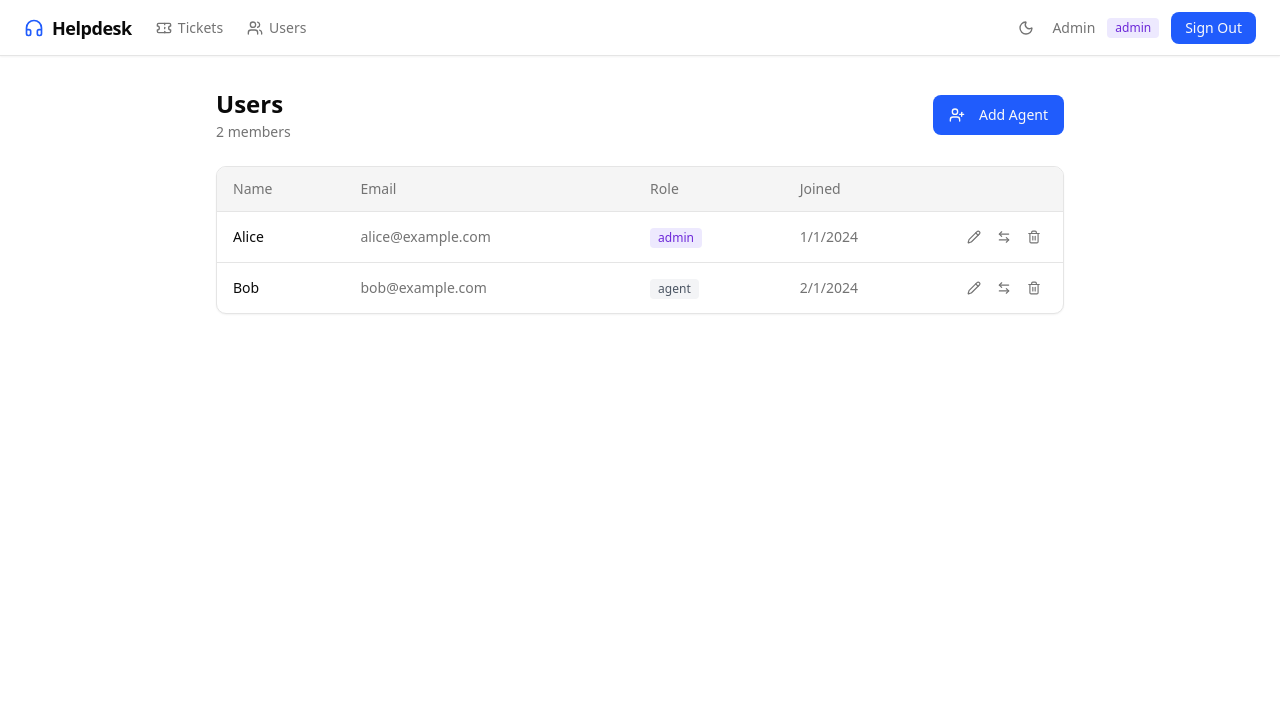
Test: UsersPage › Add Agent form › modal dismiss › shows the dialog when Add Agent is clicked
Expected: the text "Alice" is shown, [217,212,344,262]
Expected: the text "New Agent" is not shown
Click the button "Add Agent" at (998, 115), box [933,95,1064,135]
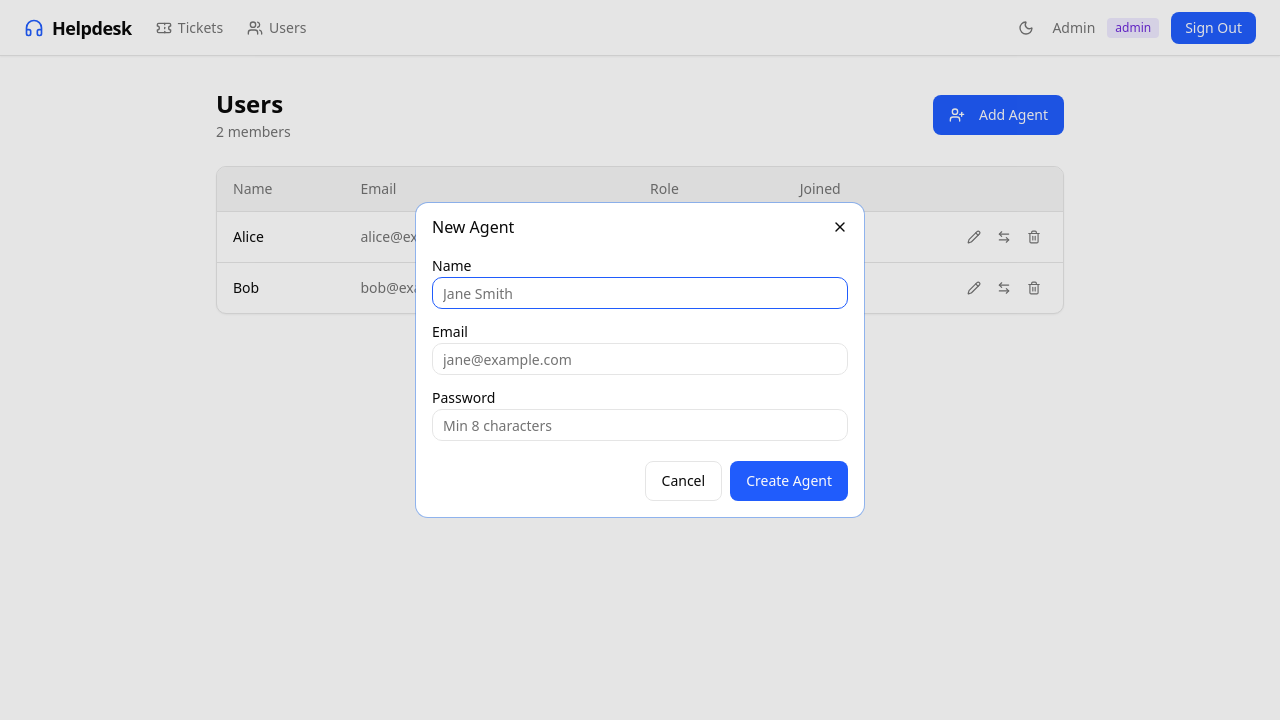
Now the heading "New Agent" is shown, box [432,216,514,238]
